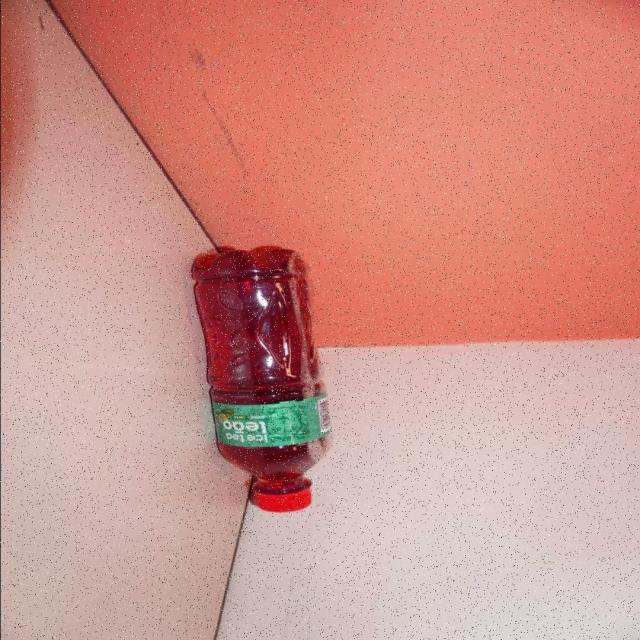IceTea: (188, 246, 332, 514)
